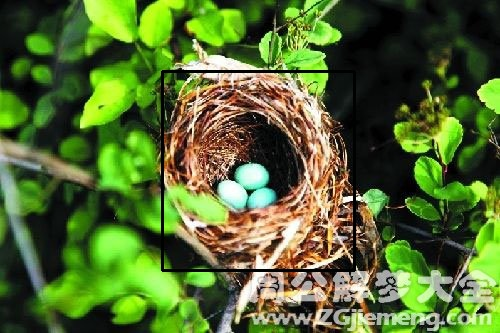bird-nest: (162, 71, 354, 270)
